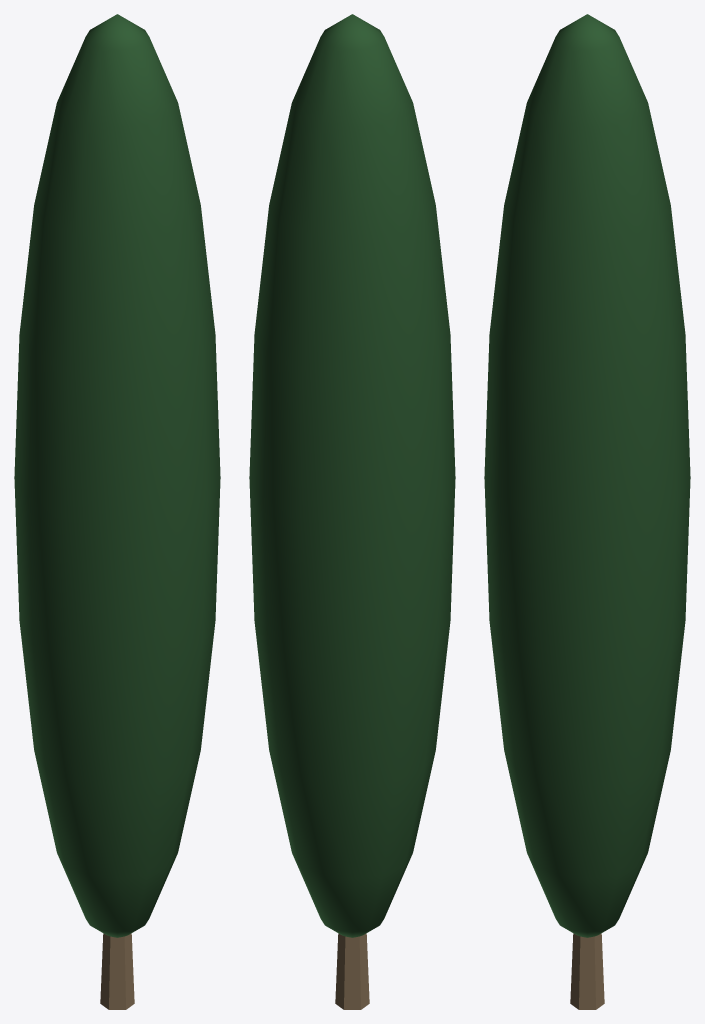
The model's file is cypress.glb.
The picture shows the model from 3 angles, left to right: view 1: azimuth 30°, elevation 25°; view 2: azimuth 150°, elevation 25°; view 3: azimuth 270°, elevation 25°; orthographic projection.
Visible parts, largest first — view 1: cypress; view 2: cypress; view 3: cypress.
Part boxes in pixels (x1,y1,x2,y2): cypress: [14, 14, 220, 1009]; cypress: [249, 14, 455, 1009]; cypress: [484, 14, 690, 1009].
Size of the model in its own units: 1.8 by 9.54 by 1.8.
